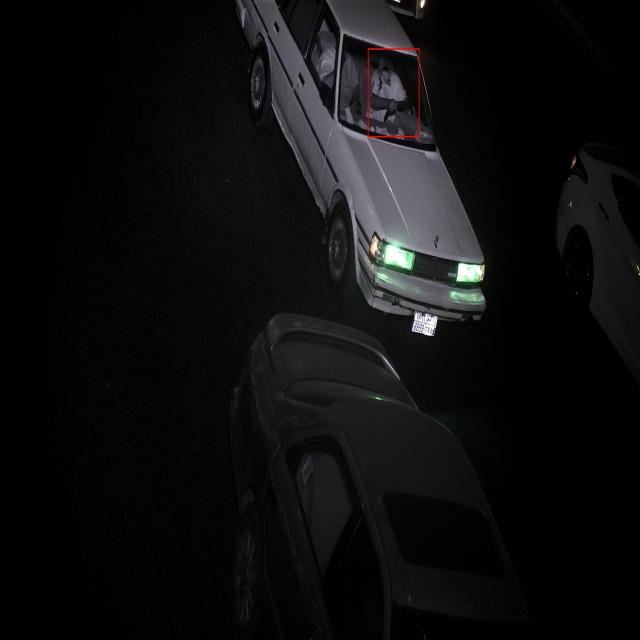windshield: (337, 30, 438, 151)
